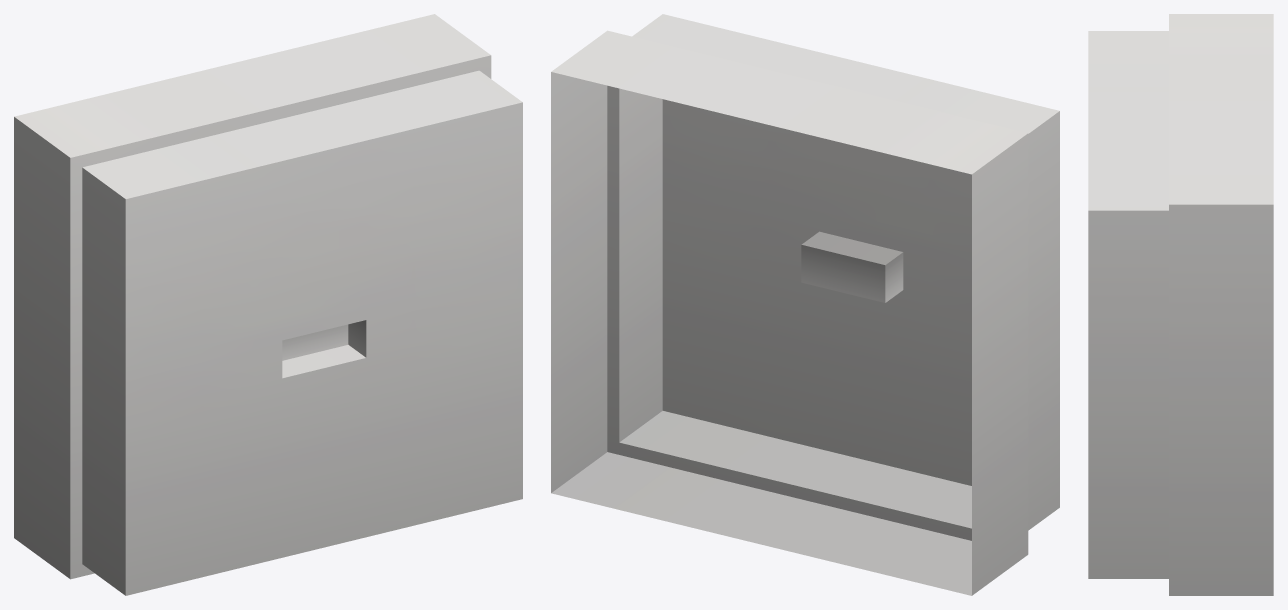
File: Wall_Socket_ADSL.fbx
The picture shows the model from 3 angles, left to right: view 1: azimuth 30°, elevation 25°; view 2: azimuth 150°, elevation 25°; view 3: azimuth 270°, elevation 25°; orthographic projection. The views are drawn at different scales.
Visible parts, largest first — view 1: Wall_Socket_ADSL; view 2: Wall_Socket_ADSL; view 3: Wall_Socket_ADSL.
Part boxes in pixels (box(x1,y1,x2,y2)): Wall_Socket_ADSL: box(14, 14, 522, 595); Wall_Socket_ADSL: box(551, 14, 1059, 595); Wall_Socket_ADSL: box(1088, 14, 1273, 595).
Bounding box in the file's own units: 15.37 × 14.71 × 6.32.
